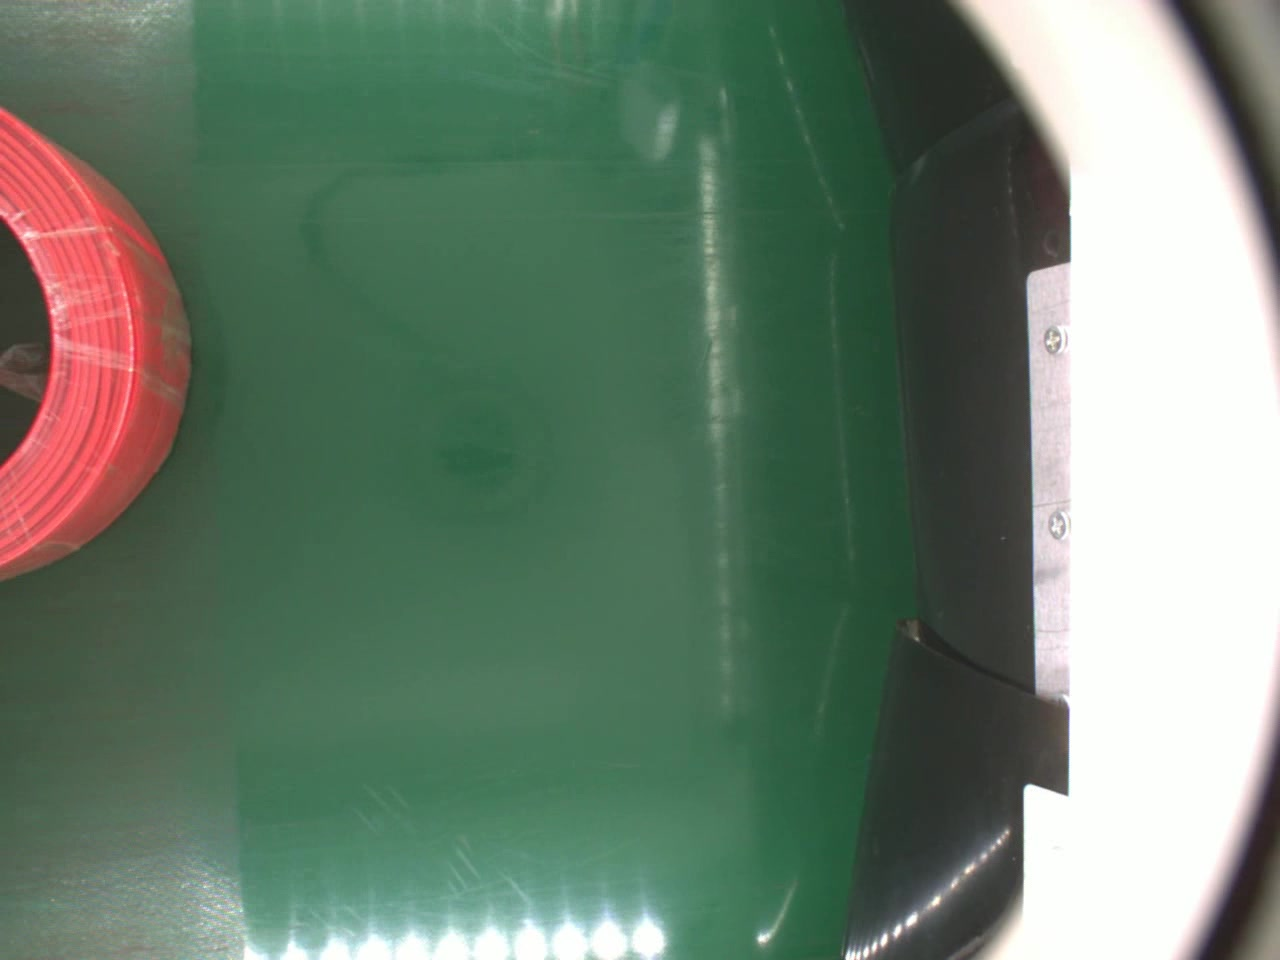red: (0, 101, 200, 581)
